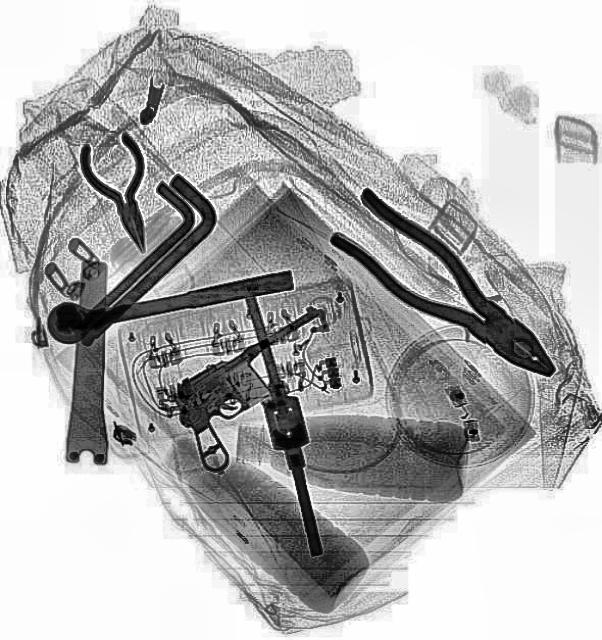Gun: (156, 299, 368, 476)
Pliers: (319, 182, 578, 402), (73, 127, 169, 259)
